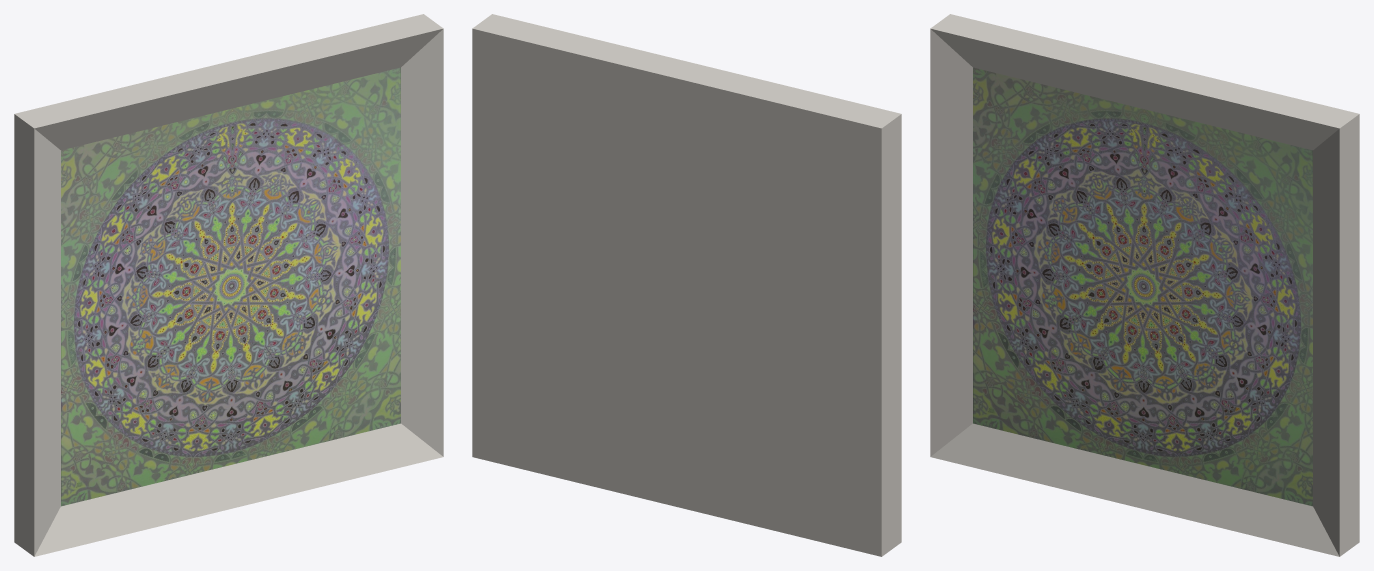
The model's file is tridecagon-moon-star-tridecagon-sage-green-a3-white-v2.glb.
3 renders of one model, left to right at view 1: azimuth 30°, elevation 25°; view 2: azimuth 150°, elevation 25°; view 3: azimuth 330°, elevation 25°, orthographic.
Parts seen in each view (by area): view 1: FramedPrint; view 2: FramedPrint; view 3: FramedPrint.
Boxes of the visible parts, x1,y1,x2,y2 form: FramedPrint: (14,14,443,556); FramedPrint: (472,14,901,556); FramedPrint: (930,14,1359,556).
Bounding box in the file's own units: 0.355 × 0.355 × 0.03.
Materials: 2 (1 with a texture image).
